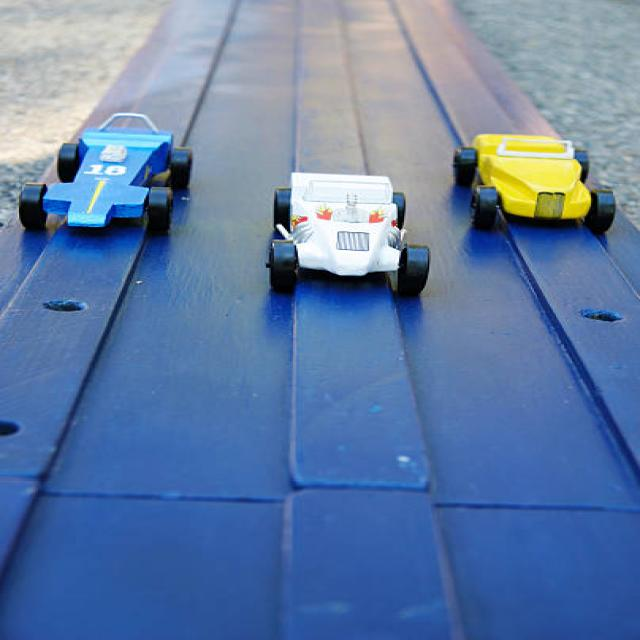Car: (264, 170, 430, 296)
